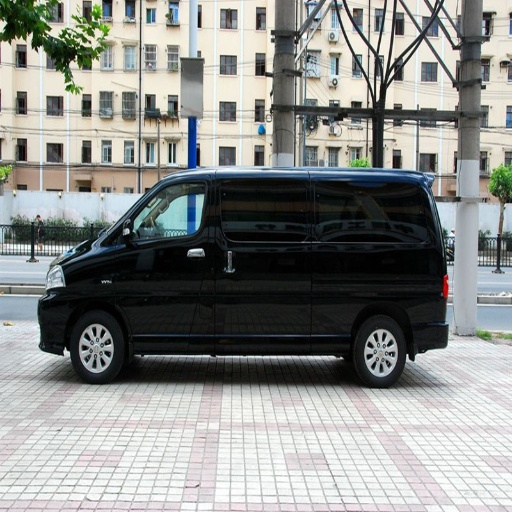trunk: (303, 244, 436, 337)
